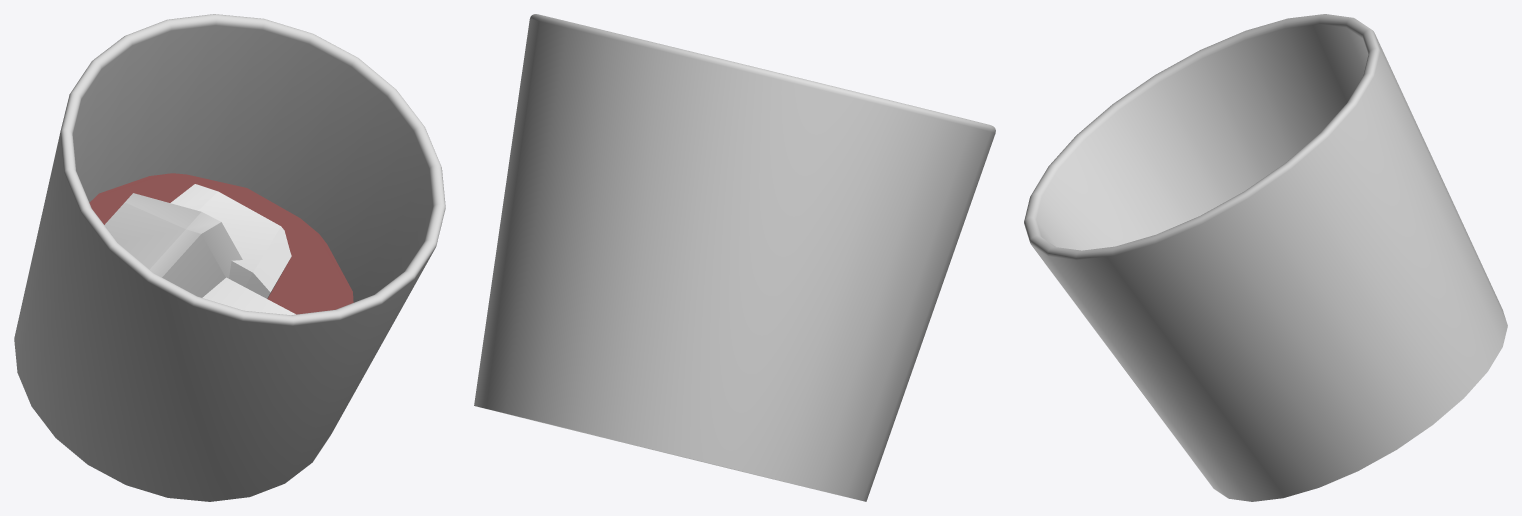
File: glass.glb
3 renders of one model, left to right at view 1: azimuth 30°, elevation 25°; view 2: azimuth 150°, elevation 25°; view 3: azimuth 270°, elevation 25°, orthographic. The views are drawn at different scales.
Parts seen in each view (by area): view 1: Cylinder.001, glass, Box010, Box008, Box009; view 2: Cylinder.001; view 3: Cylinder.001.
Part boxes in pixels (box(x1,y1,x2,y2)): Cylinder.001: box(14, 14, 445, 501); glass: box(89, 173, 353, 314); Box010: box(104, 193, 242, 297); Box008: box(170, 184, 291, 298); Box009: box(202, 277, 295, 315); Cylinder.001: box(474, 14, 995, 501); Cylinder.001: box(1024, 14, 1507, 501).
Bounding box in the file's own units: 0.3082 × 0.3569 × 0.369.
